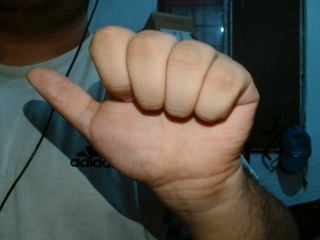Derecha: (23, 23, 265, 195)
